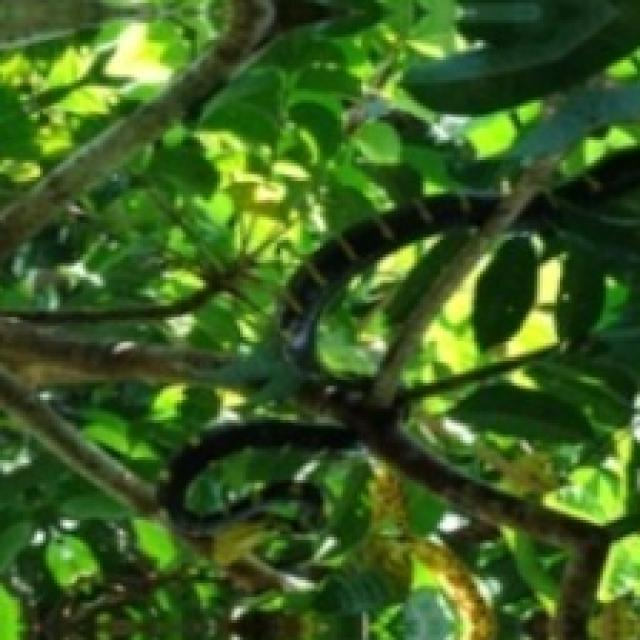mangrove cat snake: (284, 196, 496, 349), (160, 420, 356, 538), (552, 150, 640, 209)
